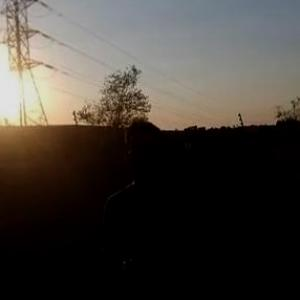follow: (95, 115, 213, 299)
